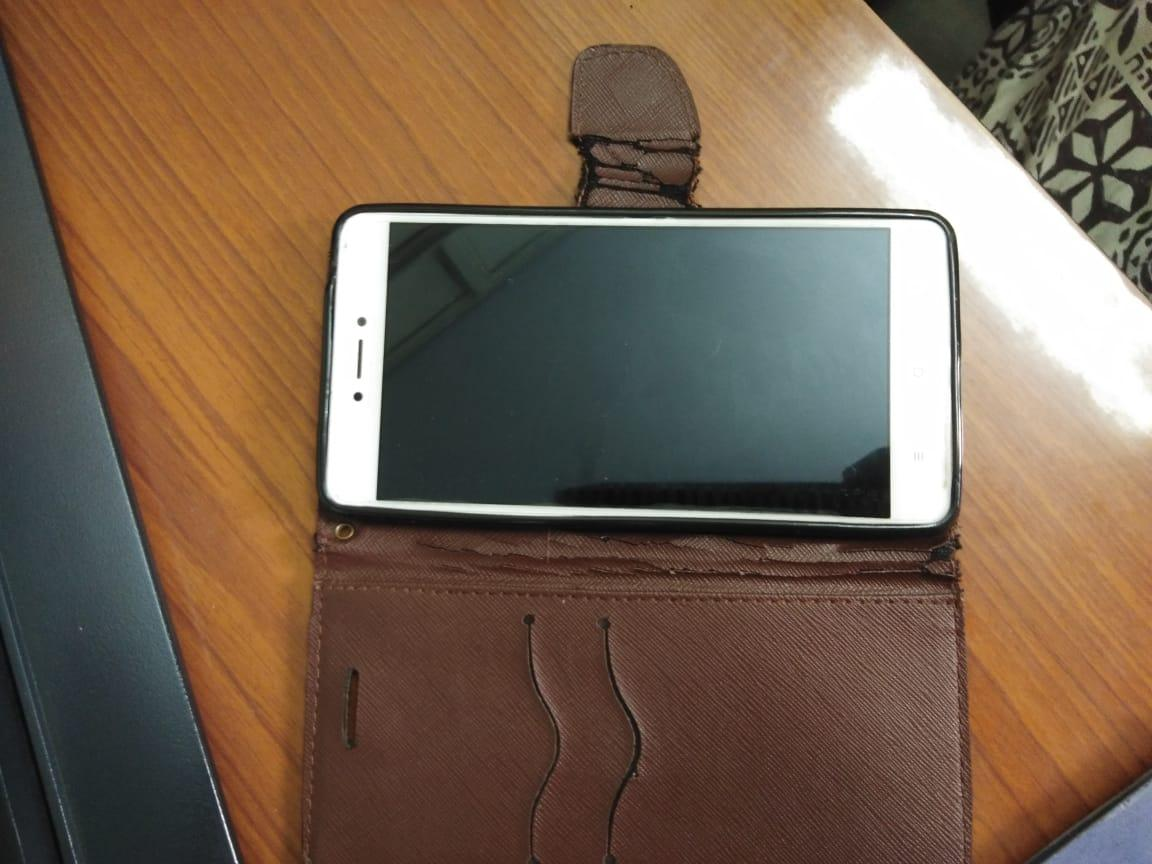Phone: (293, 187, 984, 557)
